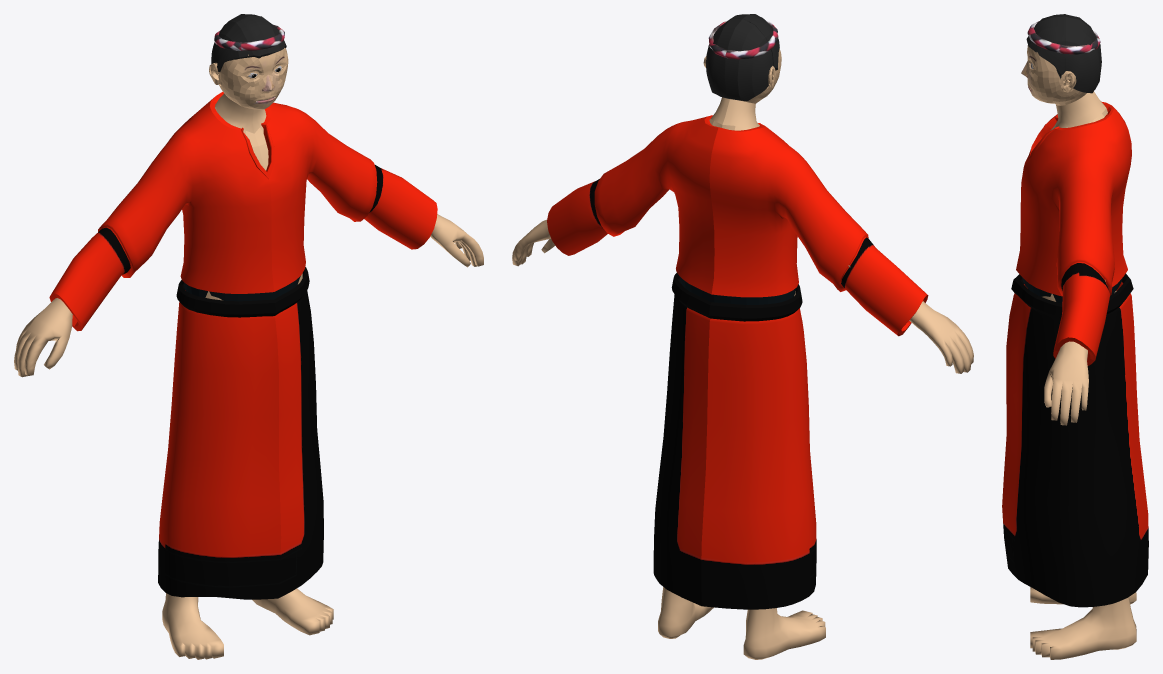
File: red.fbx
The picture shows the model from 3 angles, left to right: view 1: azimuth 30°, elevation 25°; view 2: azimuth 150°, elevation 25°; view 3: azimuth 270°, elevation 25°; orthographic projection.
Parts seen in each view (by area): view 1: polySurface5, _ear_v1:_ear_v5, pSphere8, pTorus3; view 2: polySurface5, _ear_v1:_ear_v5, pSphere9, pTorus3; view 3: polySurface5, _ear_v1:_ear_v5, pSphere9, pSphere8, pTorus3.
Boxes of the visible parts, bbox=[...] form: polySurface5: bbox=[49, 91, 437, 599]; _ear_v1:_ear_v5: bbox=[14, 48, 483, 659]; pSphere8: bbox=[217, 16, 286, 71]; pTorus3: bbox=[214, 24, 284, 50]; polySurface5: bbox=[547, 115, 928, 609]; _ear_v1:_ear_v5: bbox=[512, 49, 973, 659]; pSphere9: bbox=[706, 18, 773, 100]; pTorus3: bbox=[708, 20, 778, 59]; polySurface5: bbox=[1002, 101, 1148, 607]; _ear_v1:_ear_v5: bbox=[1021, 45, 1136, 659]; pSphere9: bbox=[1065, 14, 1101, 93]; pSphere8: bbox=[1026, 14, 1065, 78]; pTorus3: bbox=[1027, 21, 1100, 54].
Size of the model in its own units: 23.04 by 29.65 by 6.49.
Materials: 1 (1 with a texture image).
